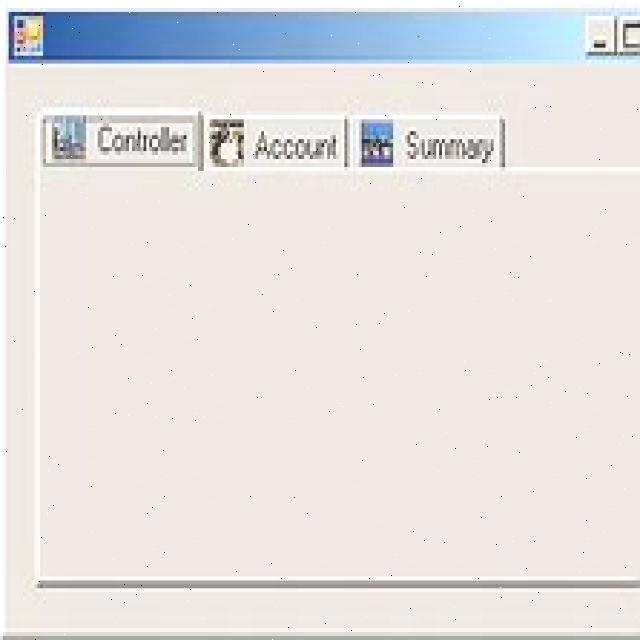button: (584, 15, 616, 57), (614, 16, 640, 56)
icon: (8, 10, 48, 61)
tabControl: (33, 107, 640, 178)
